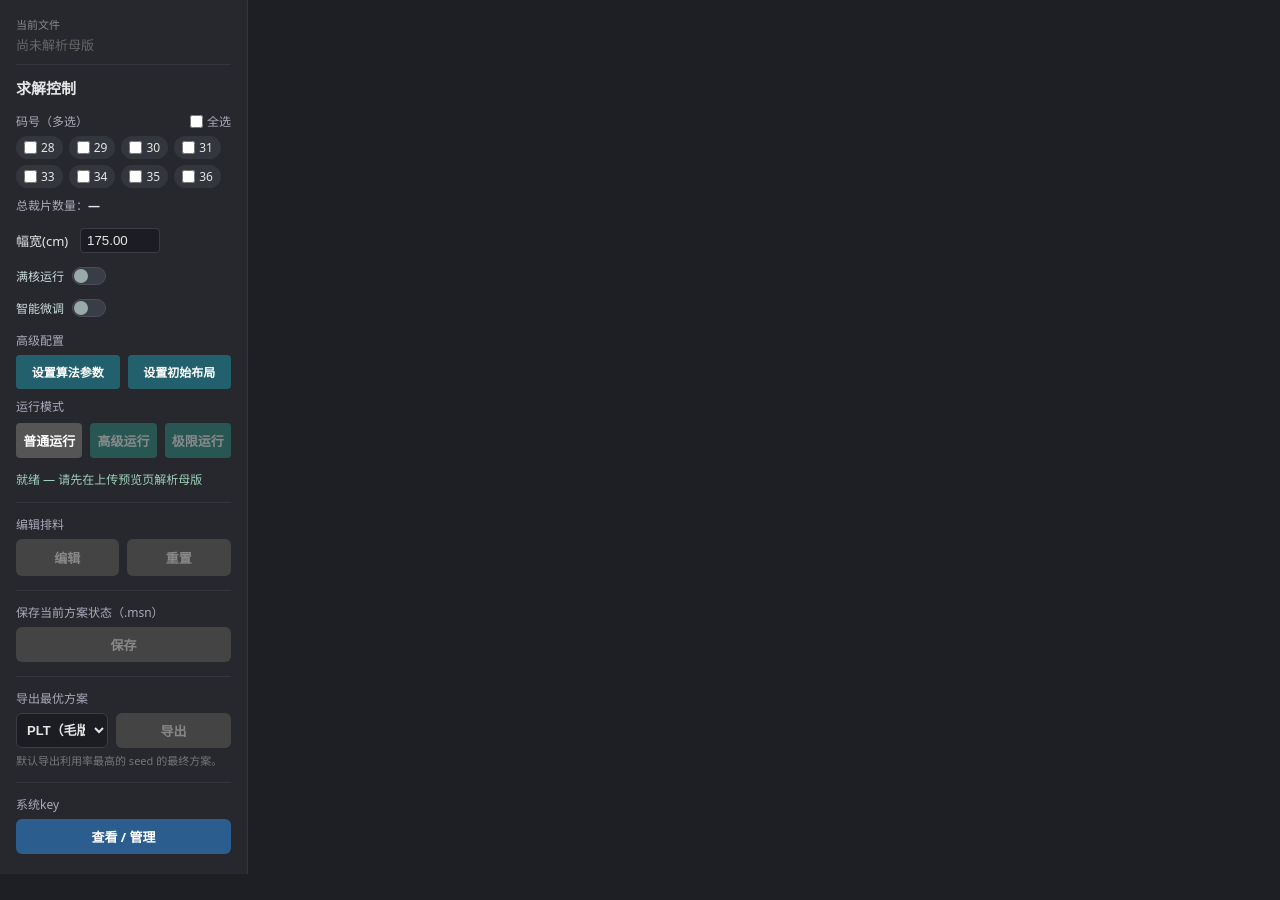
Test case: NestingPage warm_state 状态行轻提示 (US-007) › final warm_state.engaged=true → 状态行「完成：seed 0 · …% · 已从初始布局热启动」（无 toast）
Click the checkbox with id "sz_28": [30, 148] box [24,141,37,154]
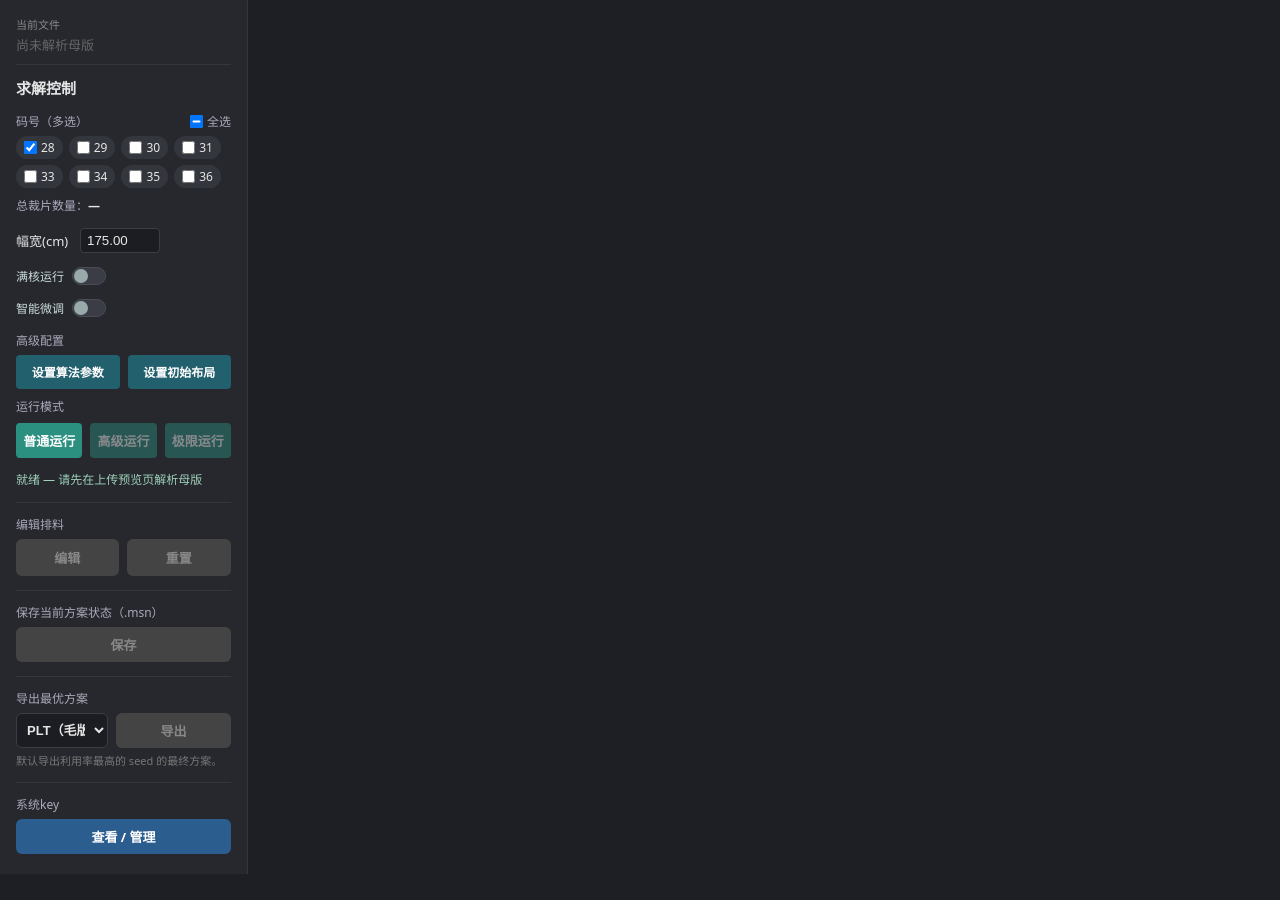
Click the button with id "start": [49, 440] box [16,423,82,458]
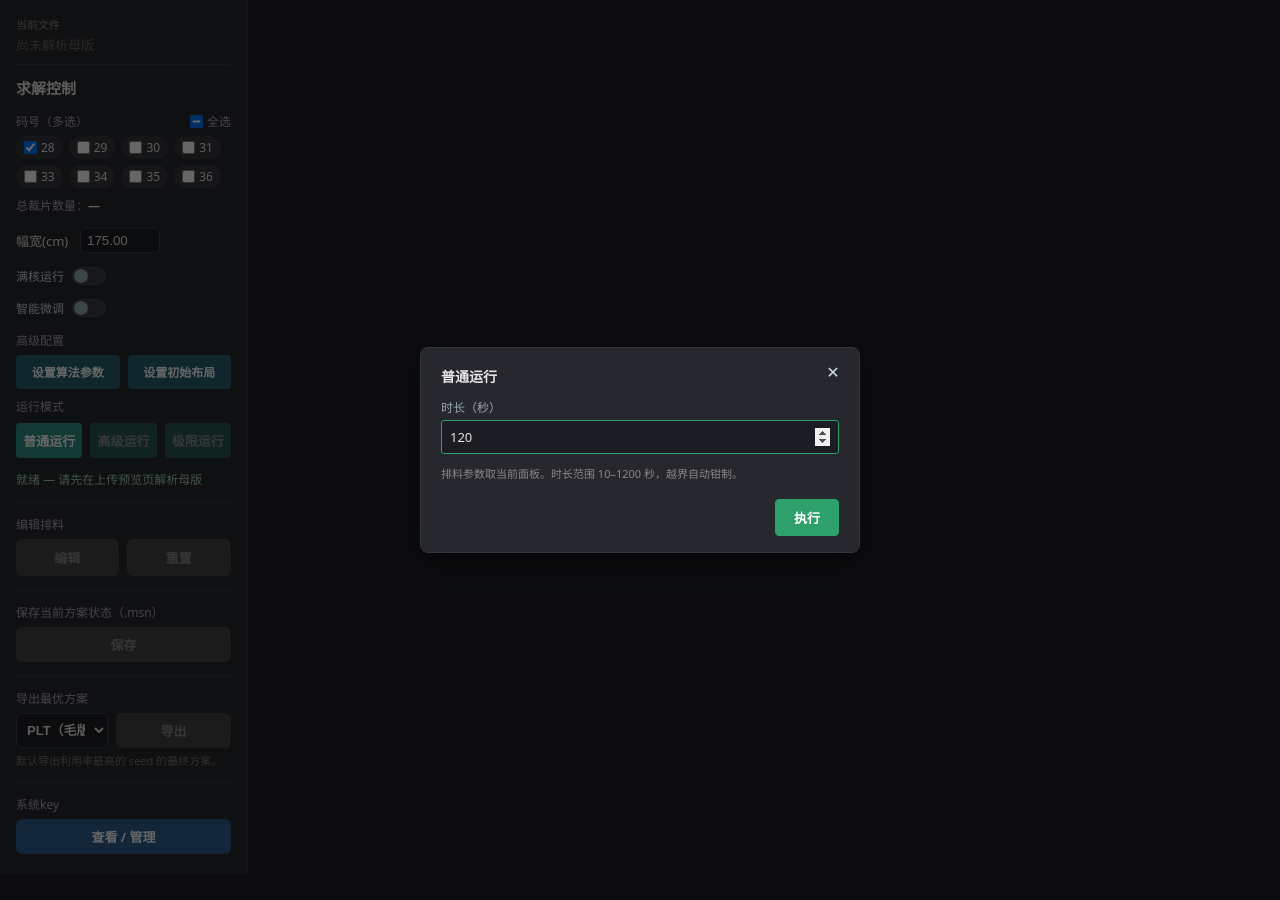
Click the button with test id "normal-run-confirm": [807, 517] box [775,499,839,536]
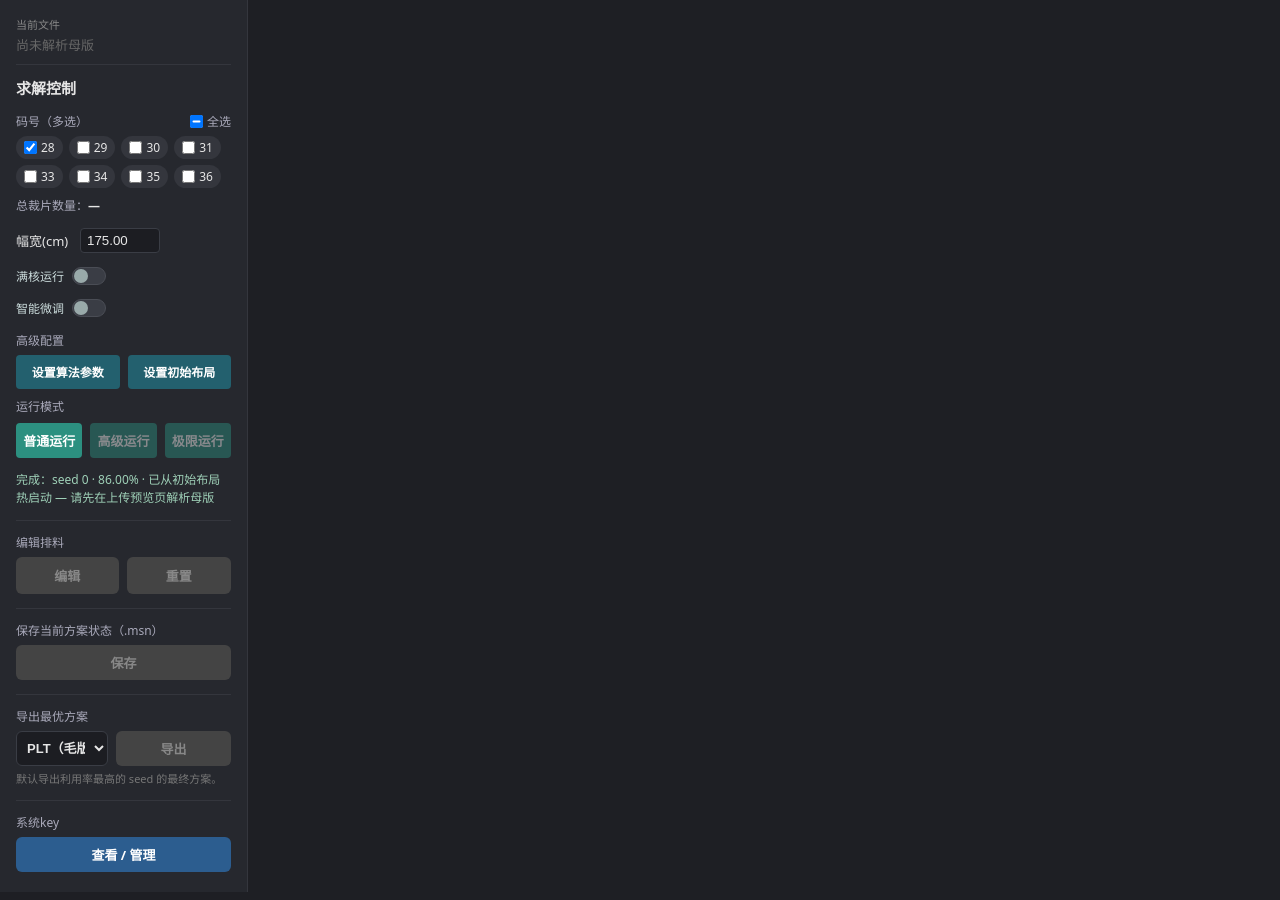
Expected: the text with class "status" shows "完成：seed 0", [16,471,220,506]
Expected: the text with class "status" shows "86.00%", [16,471,220,506]
Expected: the text with class "status" shows "已从初始布局热启动", [16,471,220,506]
